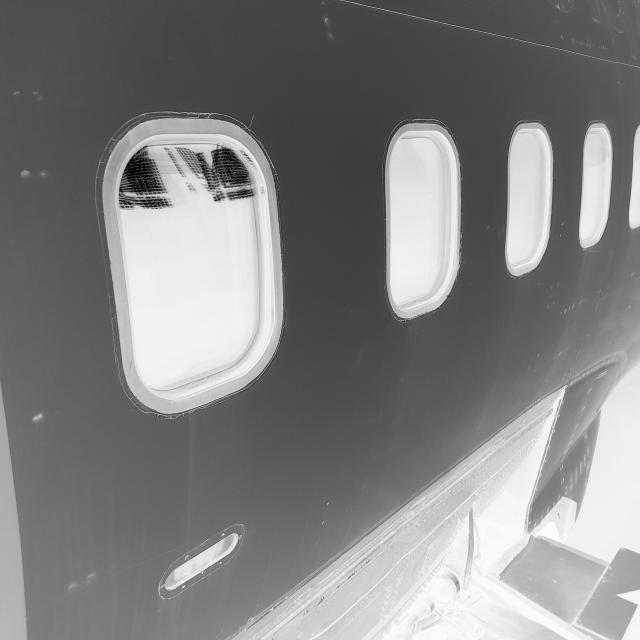crack: (242, 108, 266, 134)
